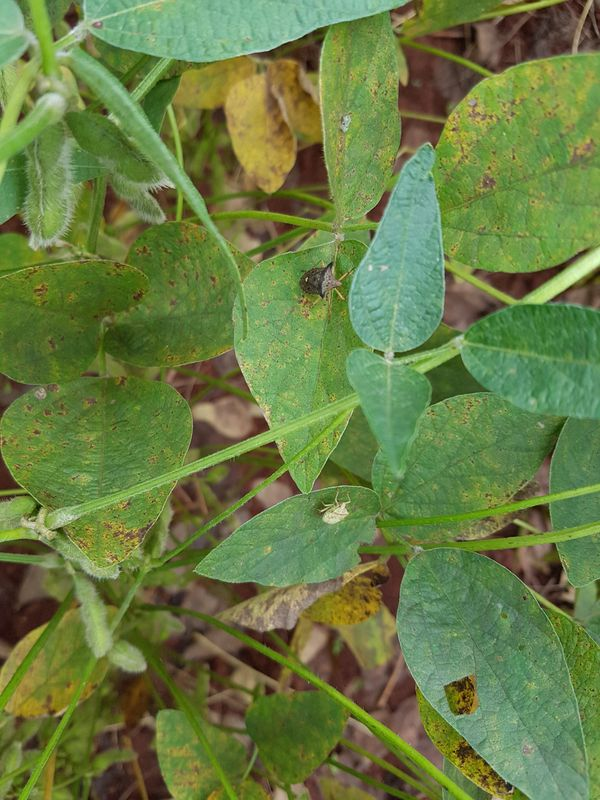Euschistus_heros_adulto: (284, 251, 358, 315)
Euschistus_heros_ninfa: (311, 486, 360, 531)
